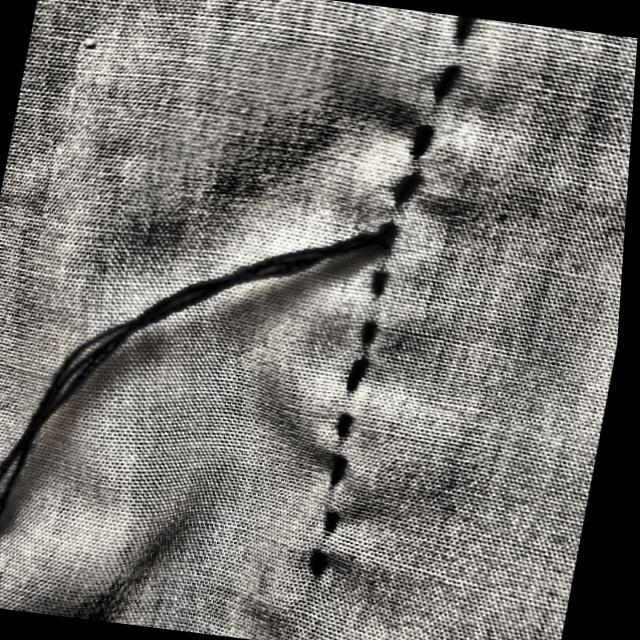Stitch: (1, 130, 441, 633)
